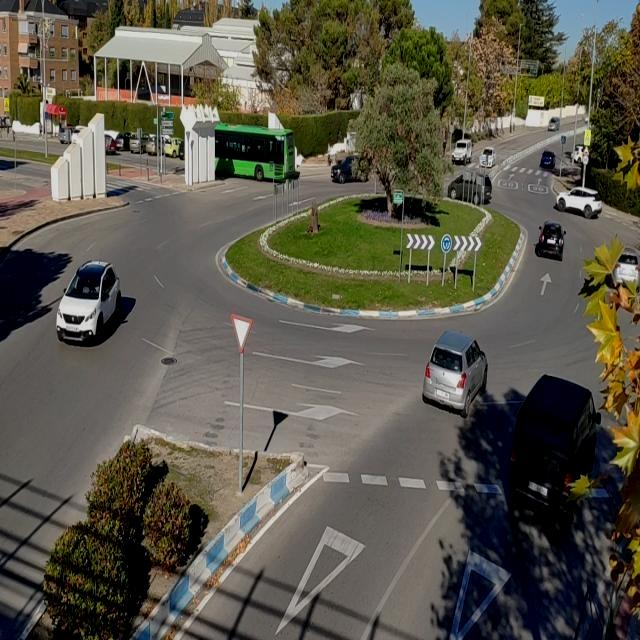Bus: (216, 114, 304, 186)
Car: (500, 373, 602, 512), (52, 260, 123, 348), (412, 332, 488, 410), (548, 182, 610, 215), (328, 149, 373, 181), (532, 218, 568, 256), (444, 174, 497, 198), (442, 135, 476, 168), (612, 250, 640, 288), (538, 146, 562, 175), (480, 142, 499, 172), (546, 113, 563, 138)
